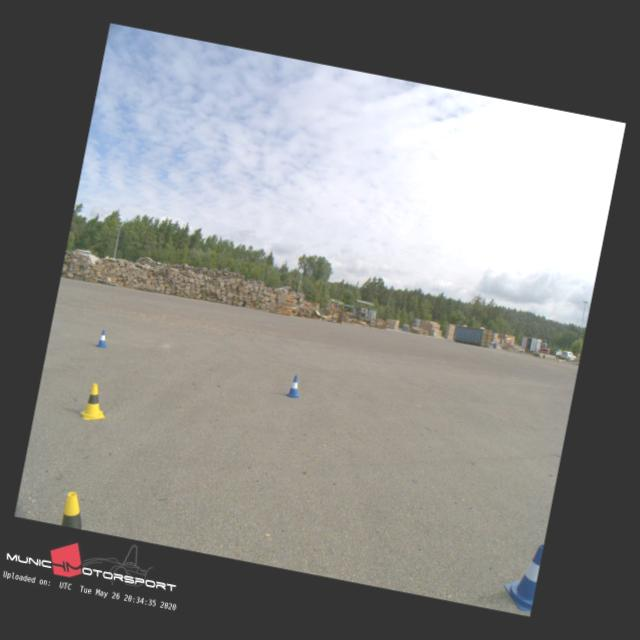blue_cone: (501, 538, 544, 612), (286, 374, 304, 398), (96, 330, 109, 348)
yellow_cone: (80, 380, 110, 422)
